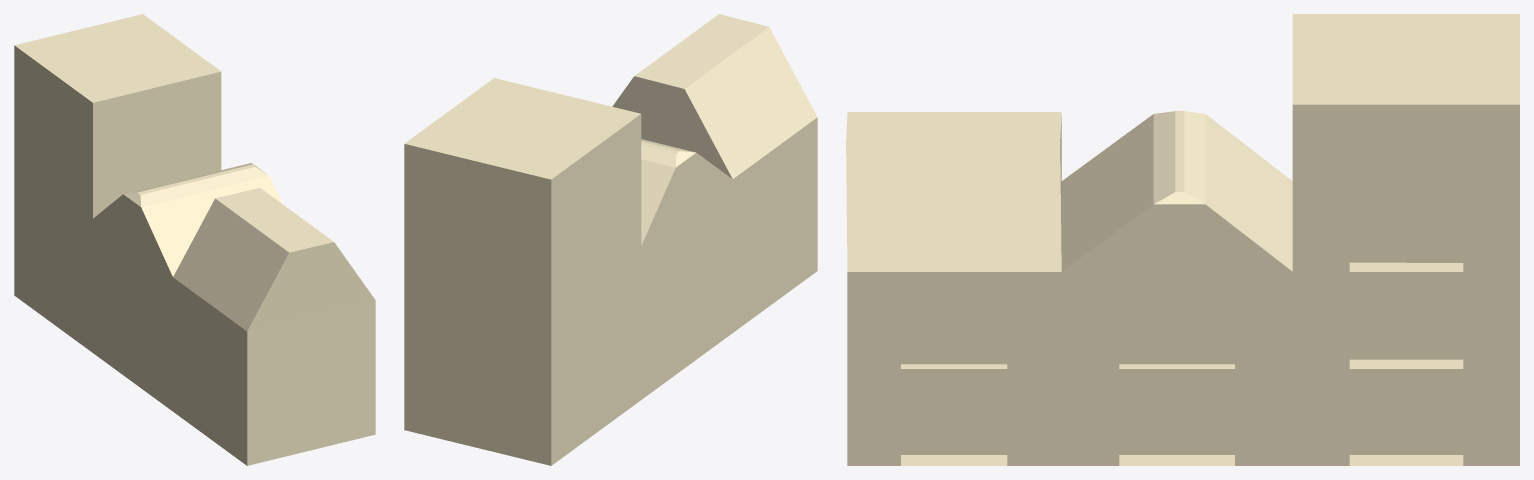
The picture shows the model from 3 angles, left to right: view 1: azimuth 30°, elevation 25°; view 2: azimuth 150°, elevation 25°; view 3: azimuth 270°, elevation 25°; orthographic projection. The views are drawn at different scales.
Visible parts, largest first — view 1: Cube; view 2: Cube; view 3: Cube.
Boxes of the visible parts, x1,y1,x2,y2 form: Cube: (14,14,375,465); Cube: (404,14,817,465); Cube: (846,14,1519,465).
Size of the model in its own units: 4.44 by 8.27 by 13.98.
